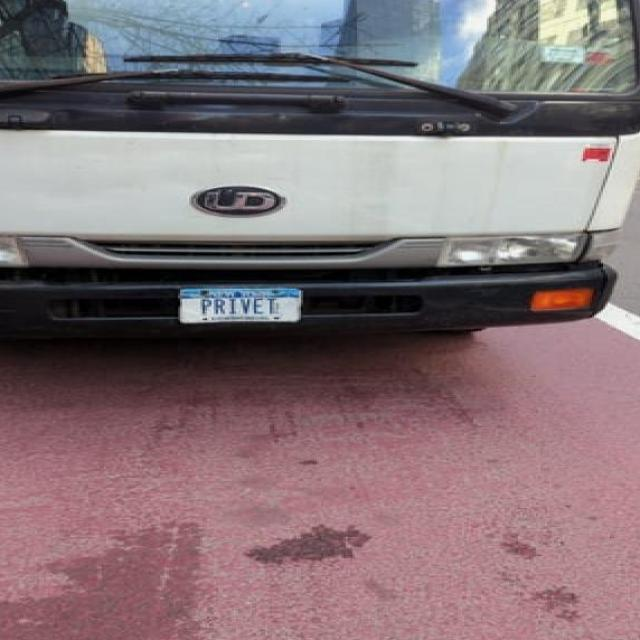license-plate: (181, 290, 311, 318)
